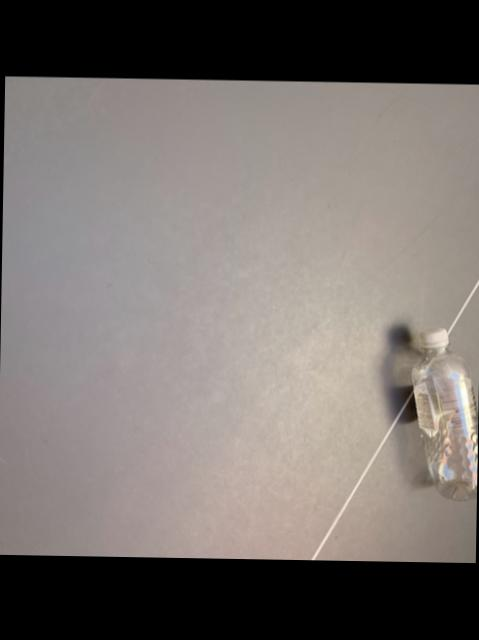plastic: (411, 330, 477, 502)
